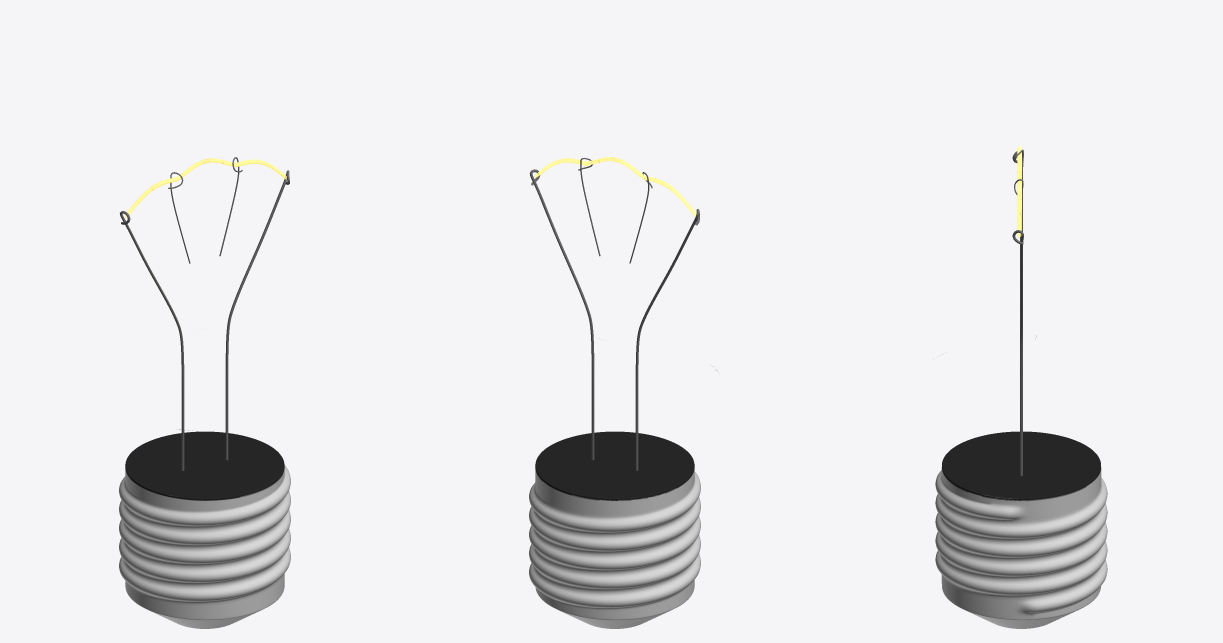
File: Bulb_Sketch_Fab.fbx
3 renders of one model, left to right at view 1: azimuth 30°, elevation 25°; view 2: azimuth 150°, elevation 25°; view 3: azimuth 270°, elevation 25°, orthographic.
Visible parts, largest first — view 1: pCube4; view 2: pCube4; view 3: pCube4.
Part boxes in pixels (box(x1,y1,x2,y2)): pCube4: box(119, 157, 290, 628); pCube4: box(529, 157, 716, 628); pCube4: box(935, 146, 1107, 628).
Bounding box in the file's own units: 82.52 × 144 × 82.52.
1 material, 1 textured.
